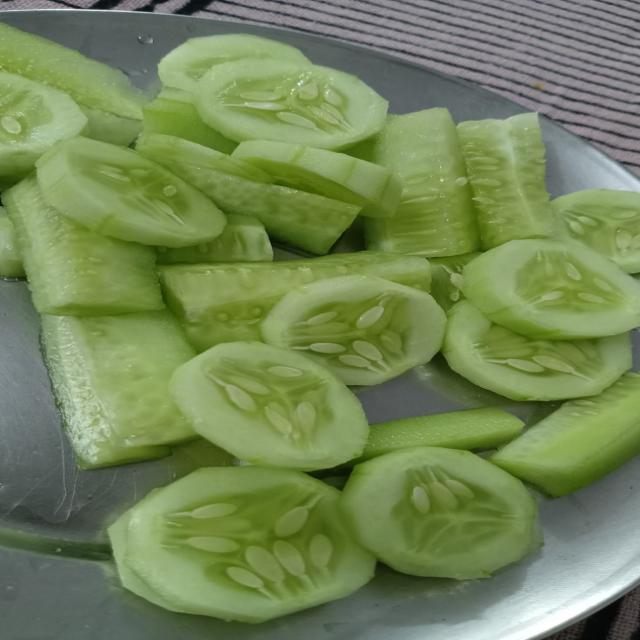cucumber sliced: (110, 467, 374, 622), (160, 252, 430, 350), (341, 447, 540, 579), (138, 136, 359, 253), (170, 343, 368, 470), (42, 311, 195, 468), (3, 176, 163, 315), (37, 137, 226, 247), (260, 275, 446, 385), (443, 301, 632, 400), (489, 373, 639, 496), (194, 59, 387, 150), (463, 240, 639, 339), (366, 109, 479, 256), (0, 23, 147, 119), (458, 114, 553, 249), (234, 141, 402, 217), (0, 71, 87, 182), (356, 408, 524, 461), (159, 34, 311, 91), (109, 513, 186, 612), (552, 189, 639, 273), (136, 134, 273, 186), (144, 89, 237, 153), (157, 215, 273, 264), (430, 252, 479, 311), (81, 106, 142, 146), (0, 207, 25, 277), (342, 136, 377, 161)
